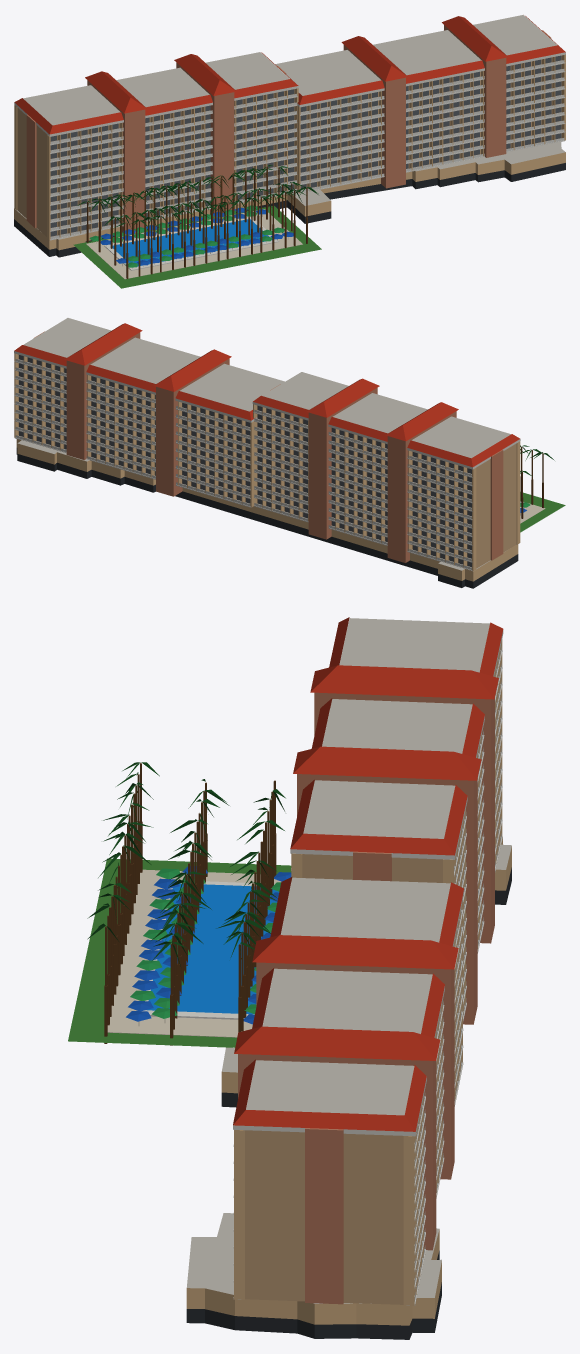
File: marriott_surfclub.glb
The picture shows the model from 3 angles, top to bottom: view 1: azimuth 30°, elevation 25°; view 2: azimuth 150°, elevation 25°; view 3: azimuth 270°, elevation 25°; orthographic projection. The views are drawn at different scales.
Parts seen in each view (by area): view 1: marriott_surfclub_lod0; view 2: marriott_surfclub_lod0; view 3: marriott_surfclub_lod0.
Boxes of the visible parts, x1,y1,x2,y2 form: marriott_surfclub_lod0: [14, 15, 565, 288]; marriott_surfclub_lod0: [14, 318, 565, 588]; marriott_surfclub_lod0: [68, 617, 511, 1339].
Size of what is drawn, in the model's own units: 186 by 50.7 by 73.59.
